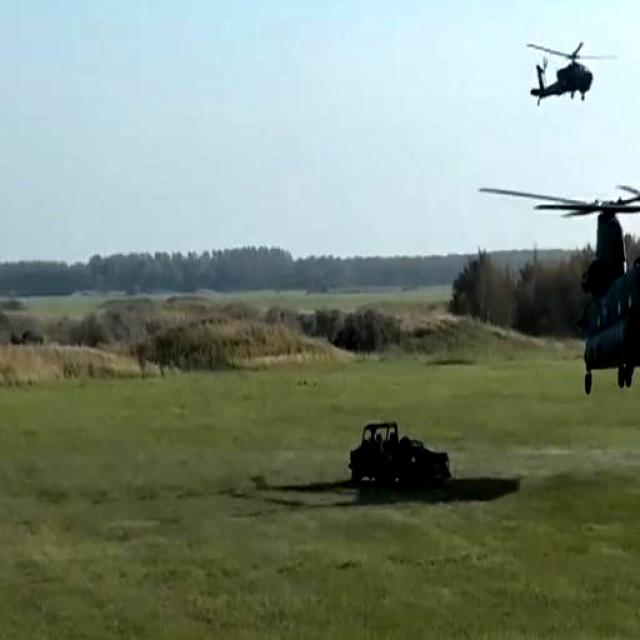drone: (475, 154, 640, 402), (522, 32, 619, 106)
